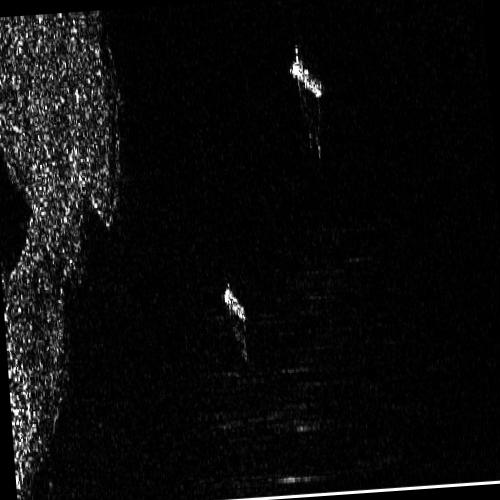ship: (290, 45, 323, 95), (222, 284, 247, 319)
